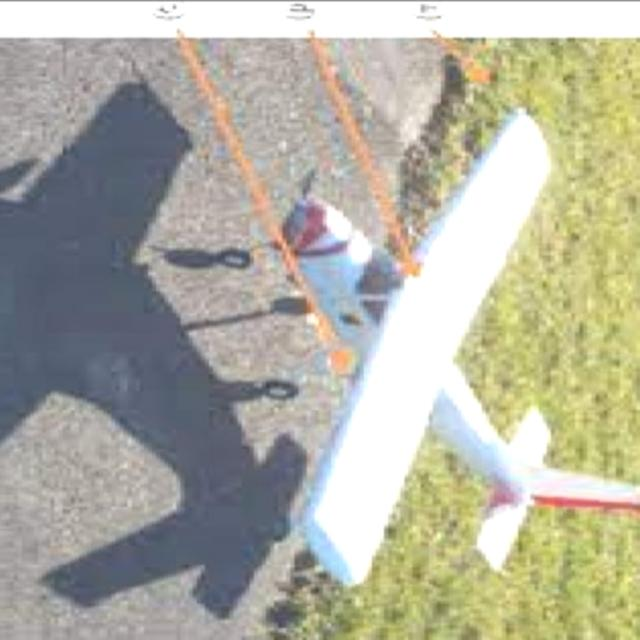plane: (217, 106, 640, 589)
